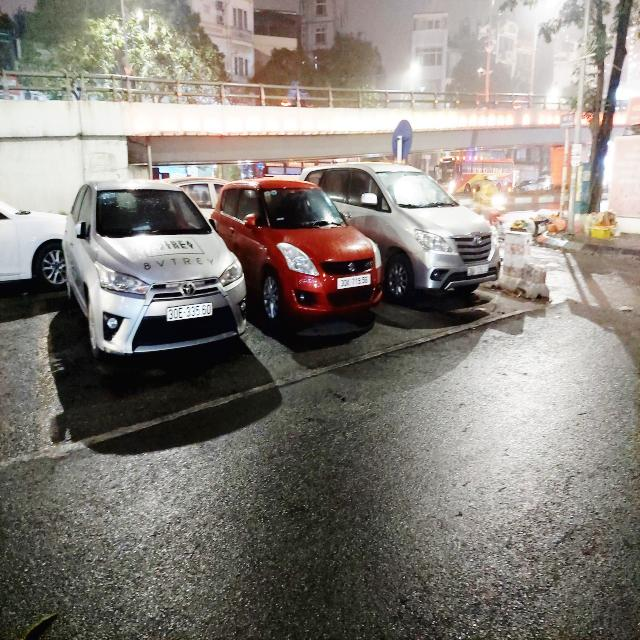license_plate: (167, 302, 214, 323)
